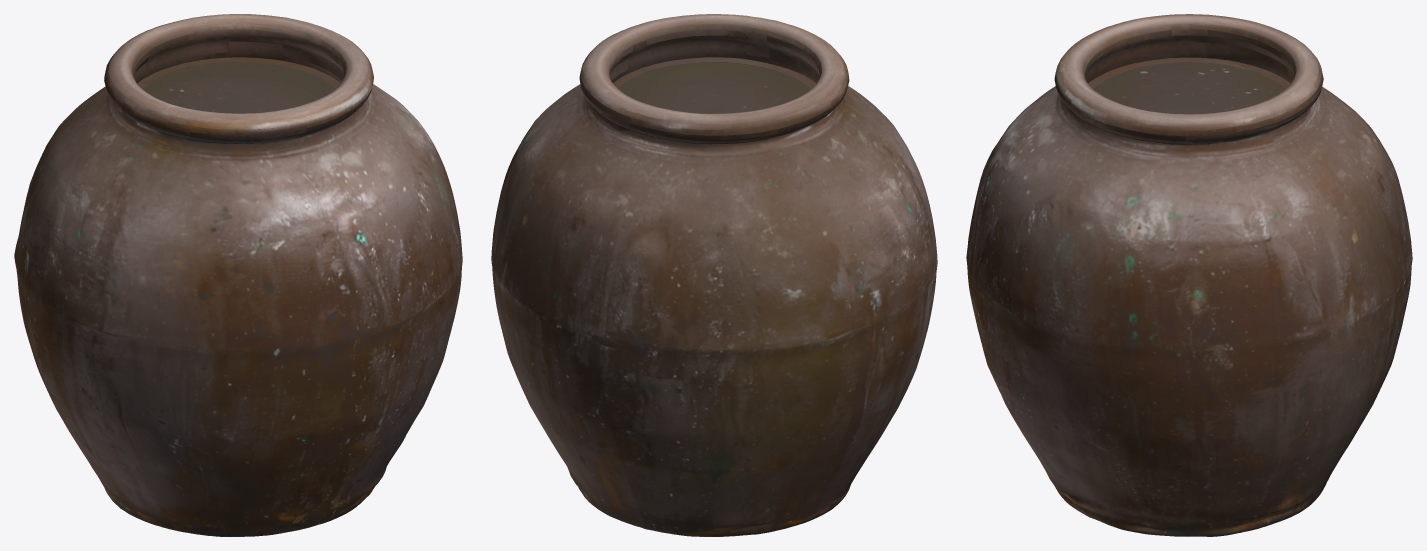
The model's file is water-vat.glb.
3 views of the same model, side by side, from view 1: azimuth 30°, elevation 25°; view 2: azimuth 150°, elevation 25°; view 3: azimuth 270°, elevation 25° (orthographic).
Parts seen in each view (by area): view 1: geometry_0; view 2: geometry_0; view 3: geometry_0.
Boxes of the visible parts, box(x1,y1,x2,y2) form: geometry_0: box(14, 14, 462, 536); geometry_0: box(491, 14, 937, 536); geometry_0: box(966, 14, 1412, 536).
Bounding box in the file's own units: 0.3135 × 0.32 × 0.3114.
1 material, 1 textured.
